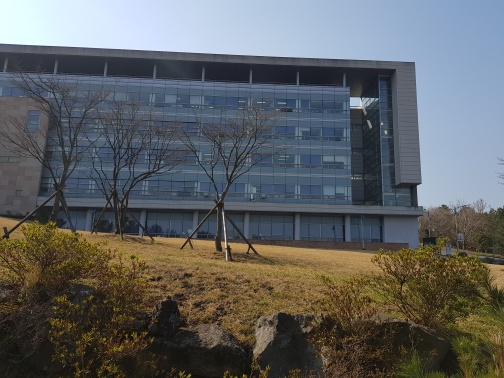Engineering College Building 4: (3, 41, 429, 255), (141, 61, 313, 244), (320, 57, 420, 248)
